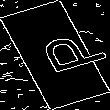P_W: (14, 28, 96, 82)
